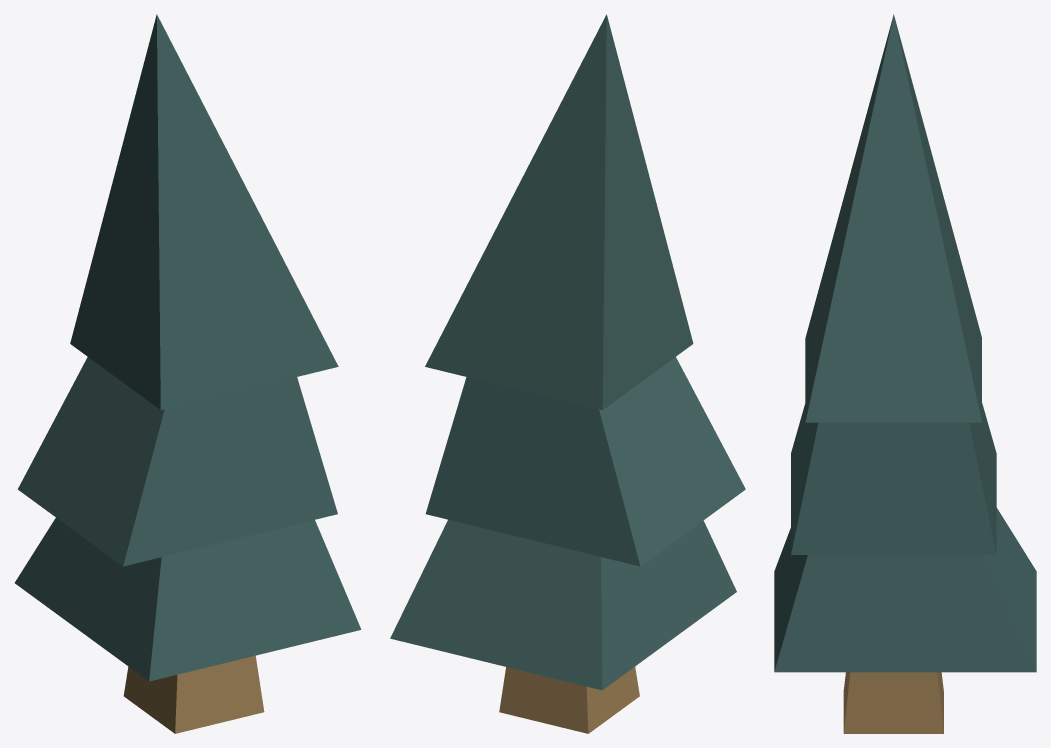
File: Tree_01.fbx
The picture shows the model from 3 angles, left to right: view 1: azimuth 30°, elevation 25°; view 2: azimuth 150°, elevation 25°; view 3: azimuth 270°, elevation 25°; orthographic projection. The views are drawn at different scales.
Parts seen in each view (by area): view 1: Mesh1_Tree Model; view 2: Mesh1_Tree Model; view 3: Mesh1_Tree Model.
Part boxes in pixels (x1,y1,x2,y2): Mesh1_Tree Model: (15, 14, 361, 733); Mesh1_Tree Model: (390, 14, 745, 733); Mesh1_Tree Model: (774, 14, 1036, 733).
Bounding box in the file's own units: 1.28 × 3.71 × 1.3.
